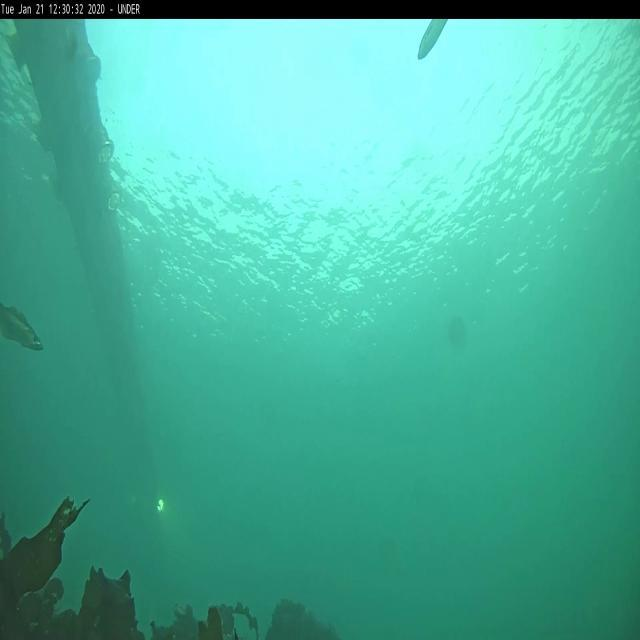fish: (1, 298, 44, 352), (416, 18, 450, 66)
